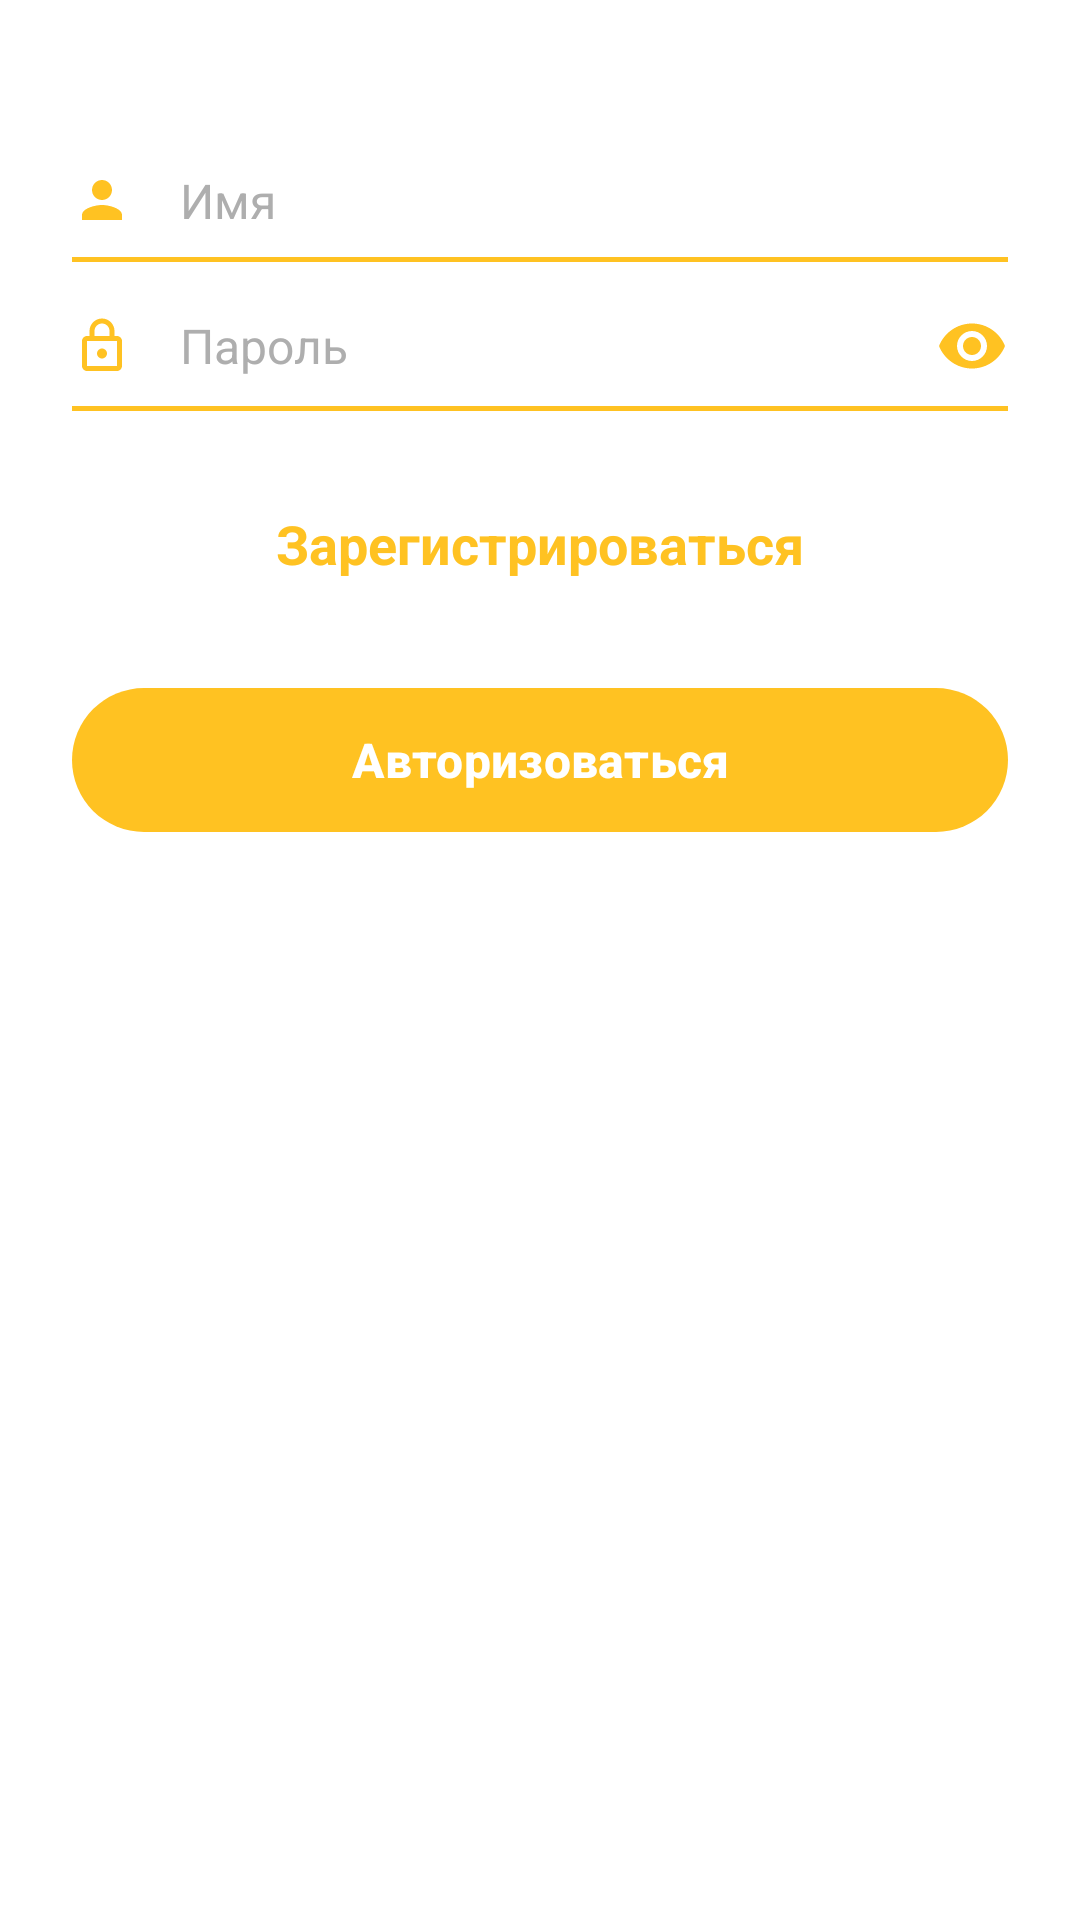

Named icons in this screenshot (1080px×1920px) and their bounding boxes, (x1, y1, x2, y2):
lock: (82, 318, 122, 371)
person: (82, 180, 122, 220)
Toggle Password Visibility: (939, 323, 1005, 369)
